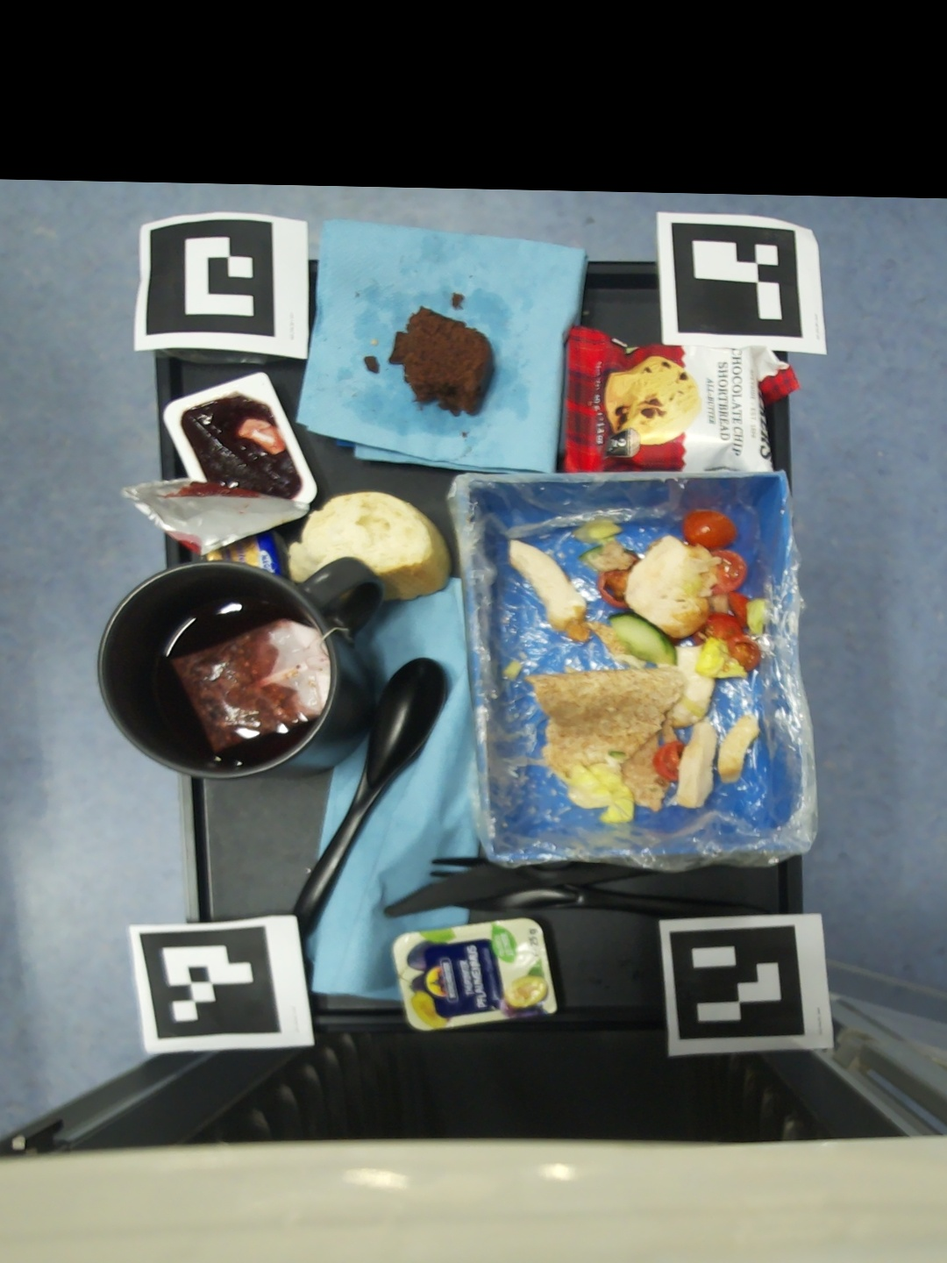bread_roll: (288, 492, 452, 600)
brownie: (389, 306, 494, 416), (364, 356, 379, 372), (452, 293, 463, 307)
butter: (206, 530, 283, 576)
cherry_jam: (119, 372, 317, 556)
cookie: (565, 326, 800, 471)
plum_jam: (392, 918, 557, 1030)
tea_cup: (99, 557, 383, 779)
wrap_half_1: (508, 509, 770, 823), (718, 713, 761, 782), (501, 660, 523, 681)
